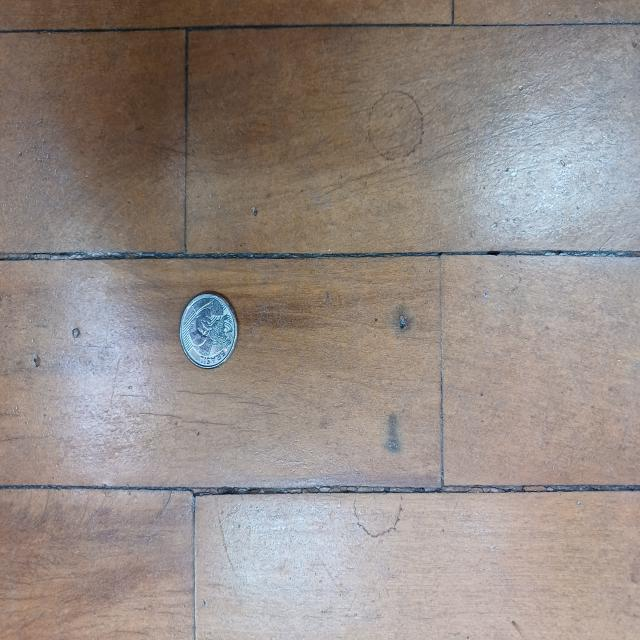50 cents: (180, 286, 239, 373)
